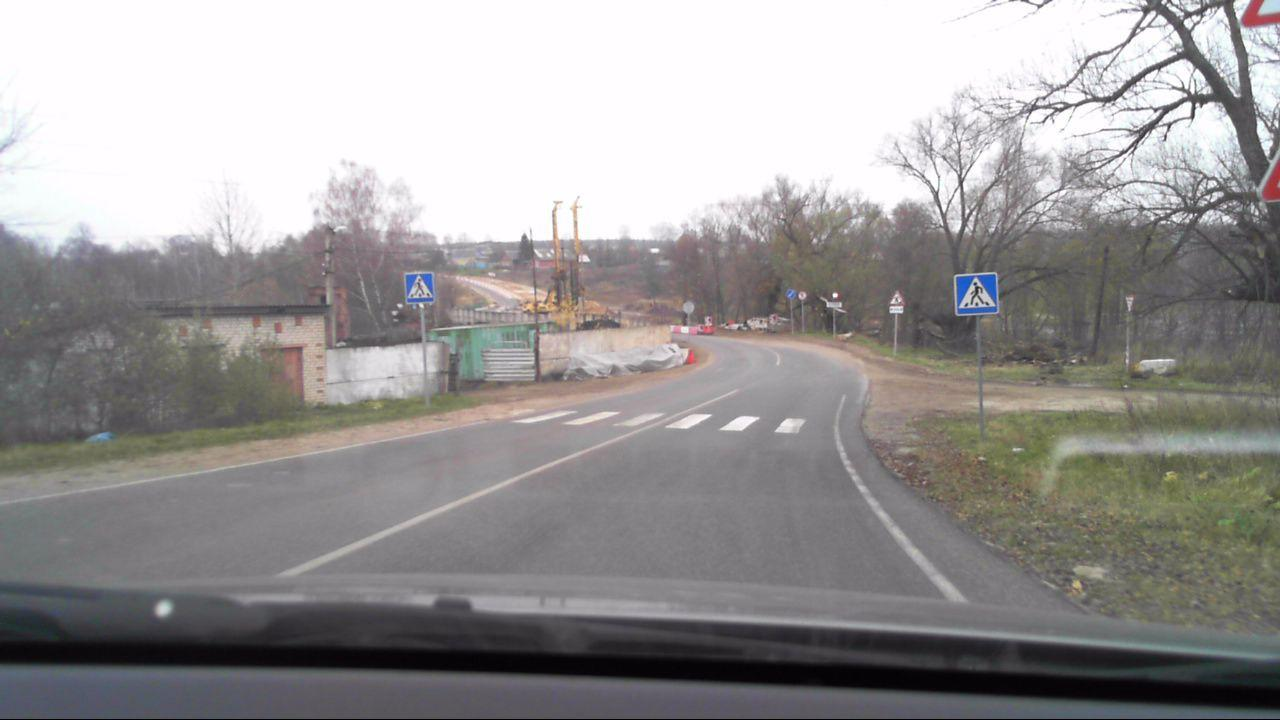1_25: (887, 288, 905, 306)
3_10: (799, 291, 808, 300)
4_2_2: (786, 289, 796, 299)
5_19_1: (955, 275, 999, 316)
5_19_2: (403, 273, 435, 302)
6_16: (826, 302, 842, 308)
8_2_1: (888, 306, 905, 314)
